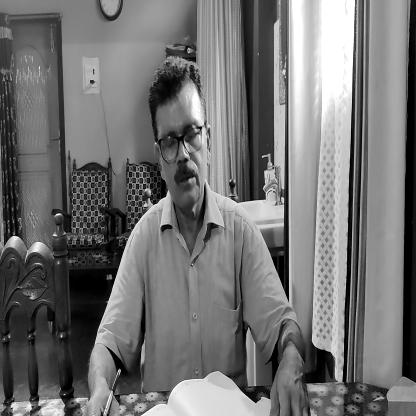Normal: (148, 55, 211, 217)
